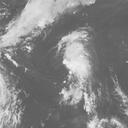cyclone: (54, 29, 94, 88)
